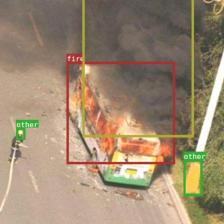fire: (66, 62, 174, 164)
smoke: (82, 0, 193, 137)
